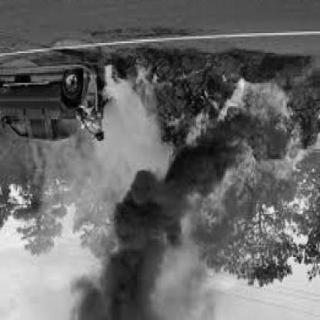Fire: (170, 78, 308, 212), (134, 66, 148, 86)
Smoke: (67, 151, 219, 320)
